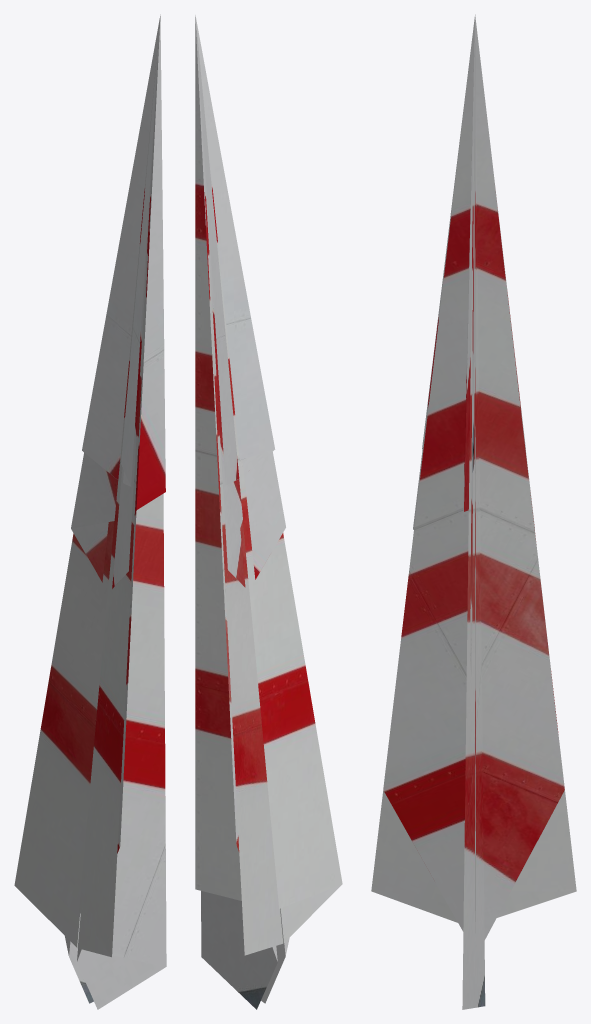
3 views of the same model, side by side, from view 1: azimuth 30°, elevation 25°; view 2: azimuth 150°, elevation 25°; view 3: azimuth 270°, elevation 25° (orthographic). The views are drawn at different scales.
Parts seen in each view (by area): view 1: Origami_Model_02.001; view 2: Origami_Model_02.001; view 3: Origami_Model_02.001.
Part boxes in pixels (x1=…): Origami_Model_02.001: x1=14, y1=14, x2=166, y2=1009; Origami_Model_02.001: x1=195, y1=15, x2=342, y2=1009; Origami_Model_02.001: x1=371, y1=14, x2=576, y2=1009.
Bounding box in the file's own units: 0.0234 × 0.223 × 0.0405.
1 material, 1 textured.
